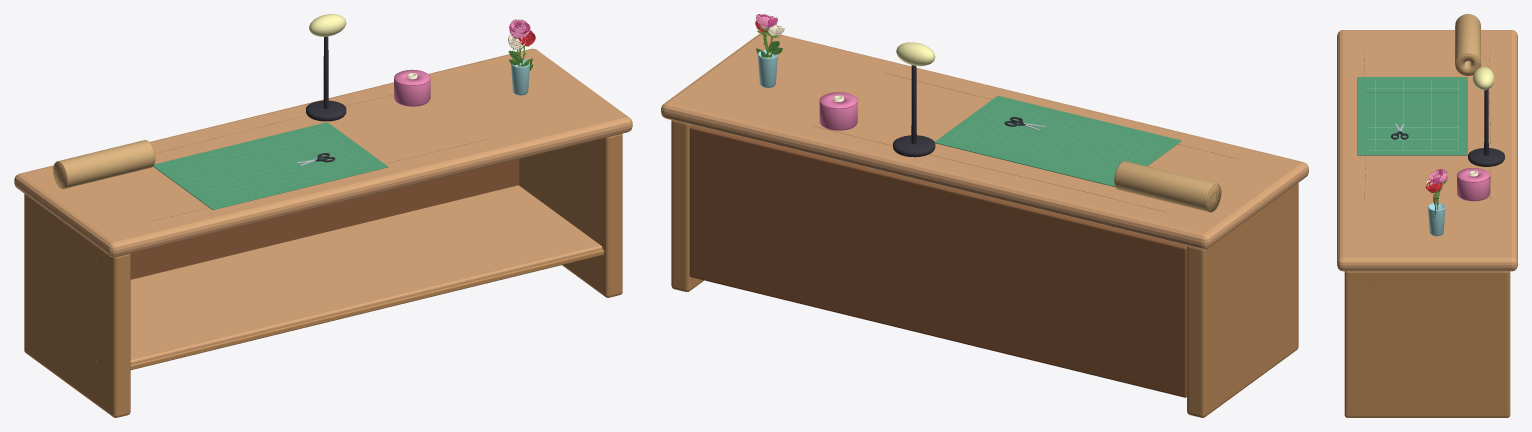
File: workbench_assembled.glb
3 renders of one model, left to right at view 1: azimuth 30°, elevation 25°; view 2: azimuth 150°, elevation 25°; view 3: azimuth 270°, elevation 25°, orthographic. The views are drawn at different scales.
Parts seen in each view (by area): view 1: Rounded_thick_worktop, Empty_storage_shelf, Side_support, Green_cutting_mat, Closed_rear_panel, Side_support.001, Shelf_front_edge, Hollow_kraft_roll, Pink_ribbon, Lamp_foot, Oval_luminous_head; view 2: Closed_rear_panel, Rounded_thick_worktop, Side_support, Green_cutting_mat, Side_support.001, Hollow_kraft_roll, Pink_ribbon, Lamp_foot, Oval_luminous_head, Hollow_cyan_vase; view 3: Rounded_thick_worktop, Side_support.001, Green_cutting_mat, Hollow_kraft_roll, Pink_ribbon, Lamp_foot, Hollow_cyan_vase, Oval_luminous_head, Lamp_stem.
Boxes of the visible parts, box(x1,y1,x2,y2) form: Rounded_thick_worktop: box(14, 48, 632, 257); Empty_storage_shelf: box(130, 185, 602, 364); Side_support: box(24, 194, 130, 417); Green_cutting_mat: box(153, 122, 387, 209); Closed_rear_panel: box(130, 159, 519, 279); Side_support.001: box(519, 133, 622, 297); Shelf_front_edge: box(130, 249, 604, 369); Hollow_kraft_roll: box(53, 140, 155, 188); Pink_ribbon: box(394, 69, 430, 106); Lamp_foot: box(306, 100, 346, 121); Oval_luminous_head: box(309, 14, 346, 36); Closed_rear_panel: box(689, 125, 1186, 397); Rounded_thick_worktop: box(661, 32, 1308, 249); Side_support: box(1187, 183, 1298, 417); Green_cutting_mat: box(935, 95, 1181, 187); Side_support.001: box(671, 120, 703, 291); Hollow_kraft_roll: box(1114, 161, 1220, 212); Pink_ribbon: box(819, 92, 857, 130); Lamp_foot: box(893, 135, 935, 157); Oval_luminous_head: box(896, 42, 935, 66); Hollow_cyan_vase: box(758, 50, 777, 87); Rounded_thick_worktop: box(1337, 30, 1517, 271); Side_support.001: box(1344, 271, 1510, 417); Green_cutting_mat: box(1357, 77, 1467, 155); Hollow_kraft_roll: box(1455, 14, 1480, 75); Pink_ribbon: box(1457, 168, 1490, 201); Lamp_foot: box(1468, 148, 1504, 166); Hollow_cyan_vase: box(1428, 203, 1445, 236); Oval_luminous_head: box(1472, 67, 1494, 90); Lamp_stem: box(1484, 89, 1488, 155).
Bounding box in the file's own units: 2.98 × 1.51 × 0.98.
